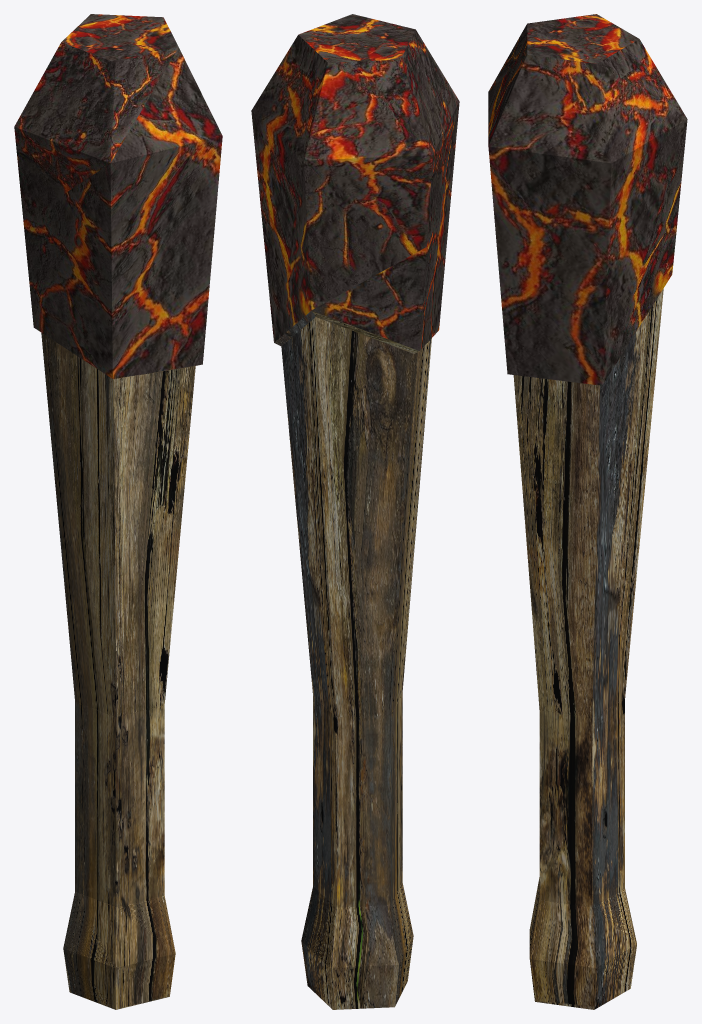
Rendered from torch.fbx.
3 renders of one model, left to right at view 1: azimuth 30°, elevation 25°; view 2: azimuth 150°, elevation 25°; view 3: azimuth 270°, elevation 25°, orthographic.
Parts seen in each view (by area): view 1: torch; view 2: torch; view 3: torch.
Part boxes in pixels (x1,y1,x2,y2): torch: (14,14,222,1009); torch: (251,14,459,1009); torch: (488,14,687,1009).
Bounding box in the file's own units: 9.88 × 49.48 × 9.4.
